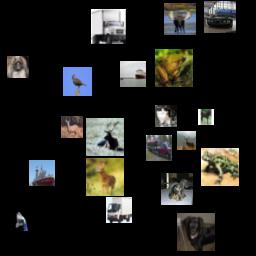automobile: (204, 1, 236, 33)
bird: (63, 67, 92, 96), (10, 212, 29, 231)
cat: (155, 105, 177, 127)
deer: (86, 158, 124, 196), (86, 118, 124, 156), (164, 3, 196, 35), (61, 116, 83, 138), (177, 131, 196, 150)
dog: (177, 213, 215, 251), (161, 173, 193, 205), (7, 56, 29, 78)
frog: (155, 49, 193, 87), (201, 148, 239, 186)
ship: (29, 160, 55, 186), (120, 61, 146, 87)
truck: (91, 9, 126, 44), (106, 197, 132, 223), (146, 135, 172, 161)
